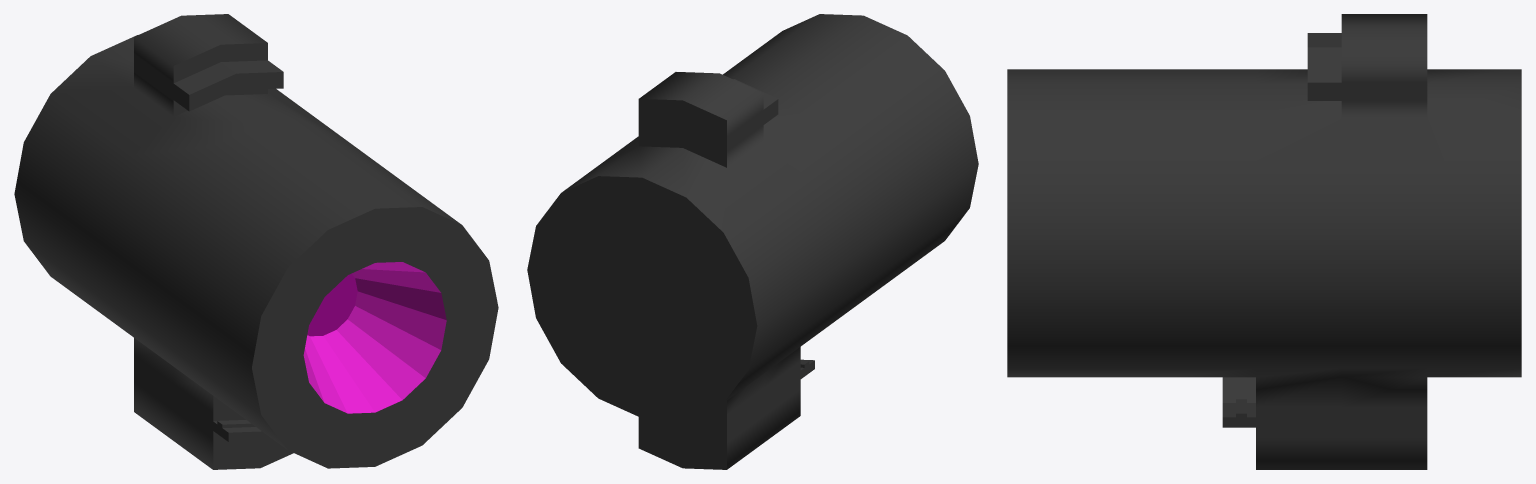
The model's file is Weapon.glb.
3 renders of one model, left to right at view 1: azimuth 30°, elevation 25°; view 2: azimuth 150°, elevation 25°; view 3: azimuth 270°, elevation 25°, orthographic. The views are drawn at different scales.
Visible parts, largest first — view 1: Cylinder; view 2: Cylinder; view 3: Cylinder.
Part boxes in pixels (left/top/right/bottom): Cylinder: left=14, top=14, right=498, bottom=469; Cylinder: left=527, top=14, right=978, bottom=469; Cylinder: left=1007, top=14, right=1521, bottom=469.
Bounding box in the file's own units: 0.3 × 0.4585 × 0.5.
